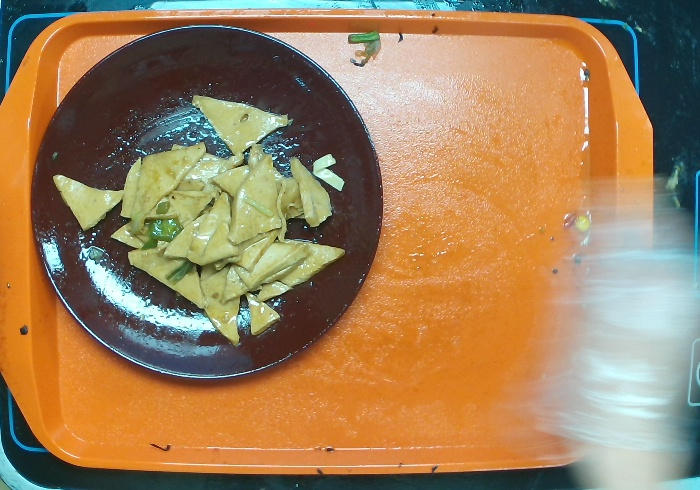HZYJPL-Ka_Fei_Yuan_Pan: (28, 22, 386, 383)
